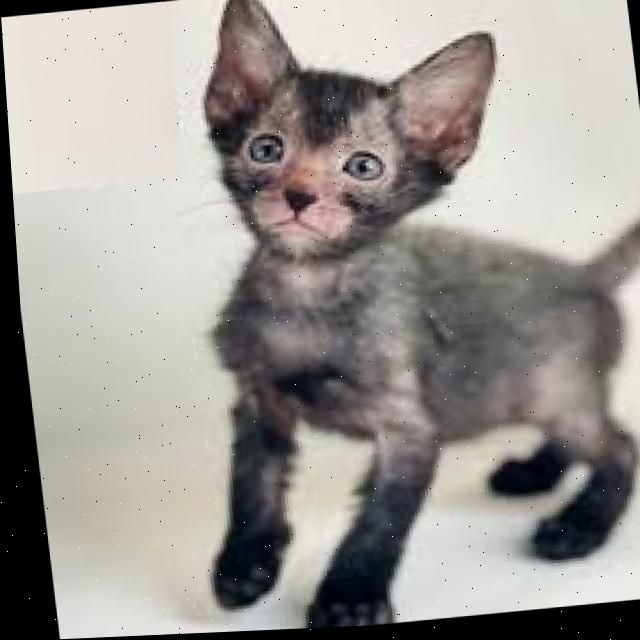Lykoi: (133, 0, 640, 635)
